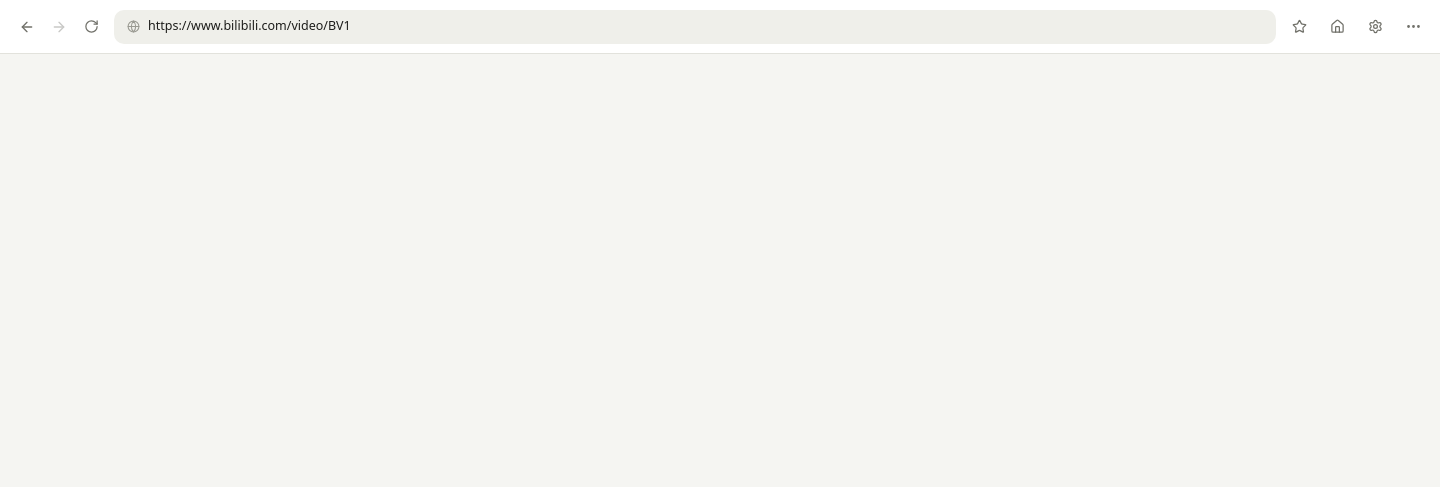
Scenario: AddressBar › 展示 URL、缩放与书签状态
The image size is (1440, 487).
Check: the field showing "https://www.bilibili.com/video/BV1" is shown, box [148,17,1263,36]
Click the button titled "菜单".
click(1413, 26)  # box [1398,12,1428,42]
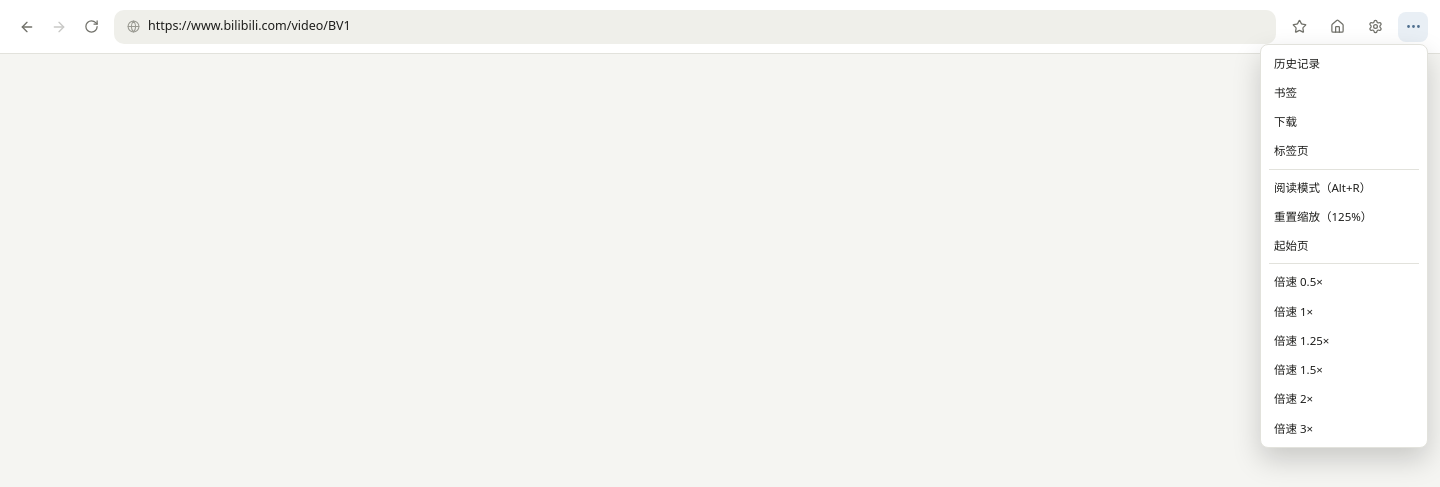
Check: the button "重置缩放（125%）" is shown, box [1265,202,1423,231]
